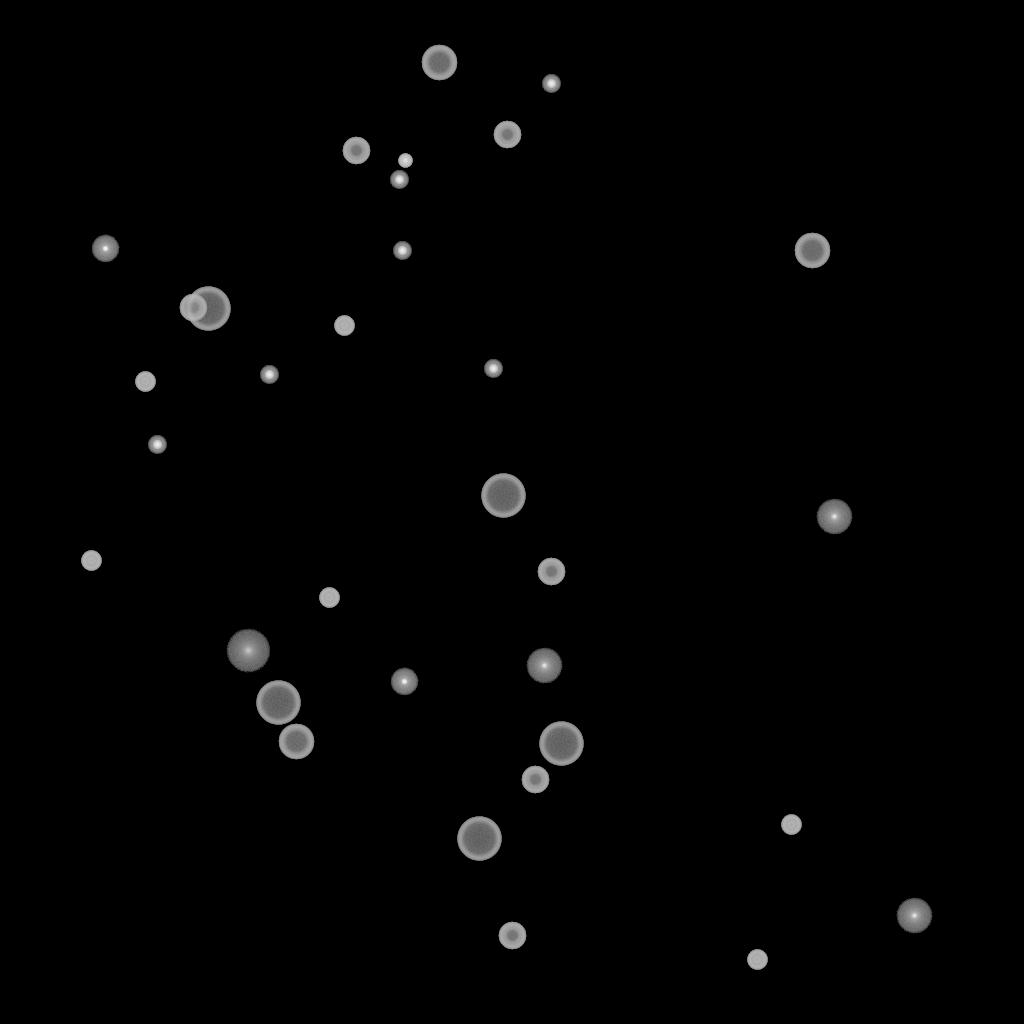depth:-10: (390, 668, 418, 696), (91, 235, 119, 263)
depth:-20: (390, 171, 408, 189), (484, 360, 502, 378), (542, 75, 560, 93), (148, 436, 166, 454), (393, 242, 411, 260), (260, 366, 278, 384)
depth:-30: (398, 154, 412, 168)
depth:-40: (135, 372, 155, 392), (334, 316, 354, 336), (747, 950, 767, 970), (319, 588, 339, 608), (81, 551, 101, 571), (781, 815, 801, 835)
depth:-50: (342, 137, 370, 165), (537, 558, 565, 586), (179, 294, 207, 322), (498, 922, 526, 950), (521, 766, 549, 794), (493, 121, 521, 149)
depth:-60: (794, 233, 830, 269), (421, 45, 457, 81), (278, 724, 314, 760)
depth:-70: (539, 722, 583, 766), (481, 474, 525, 518), (256, 681, 300, 725), (457, 817, 501, 861), (186, 287, 230, 331)
depth:0: (526, 648, 562, 684), (816, 499, 852, 535), (896, 898, 932, 934)
depth:10: (226, 629, 270, 673)
